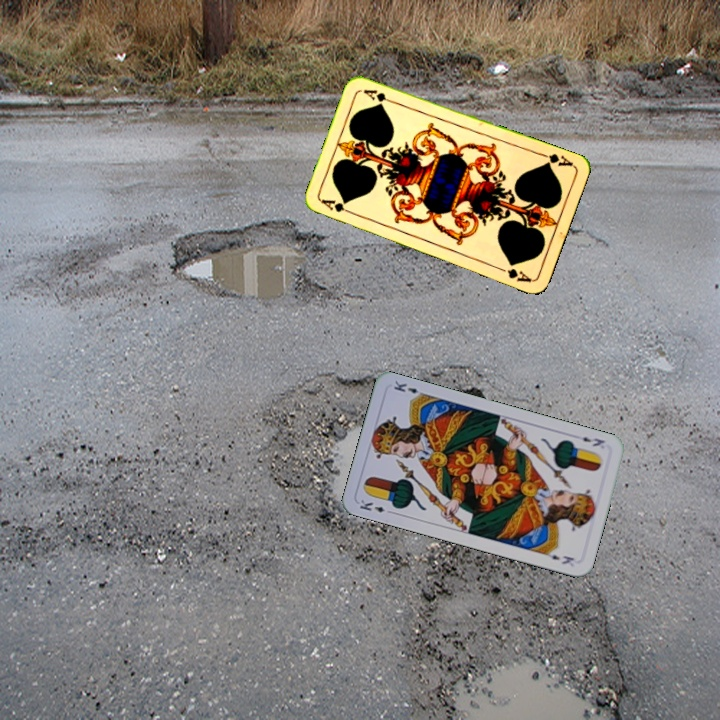EK: (356, 496, 396, 517), (578, 433, 607, 449)
GA: (317, 195, 357, 217), (536, 149, 576, 169)
